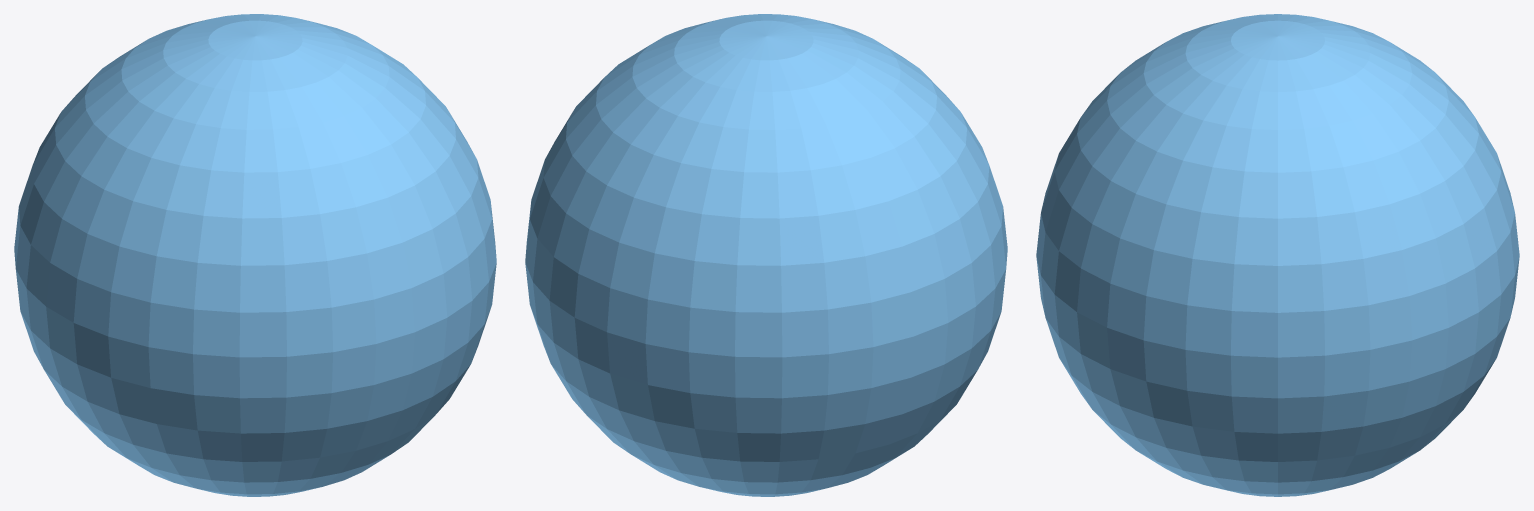
File: test-zone2.glb
The picture shows the model from 3 angles, left to right: view 1: azimuth 30°, elevation 25°; view 2: azimuth 150°, elevation 25°; view 3: azimuth 270°, elevation 25°; orthographic projection.
Visible parts, largest first — view 1: SkyBox; view 2: SkyBox; view 3: SkyBox.
Boxes of the visible parts, x1,y1,x2,y2 form: SkyBox: (14,14,496,496); SkyBox: (525,14,1007,496); SkyBox: (1036,14,1519,496).
Bounding box in the file's own units: 600 × 600 × 600.
Materials: 14 (13 with a texture image).
